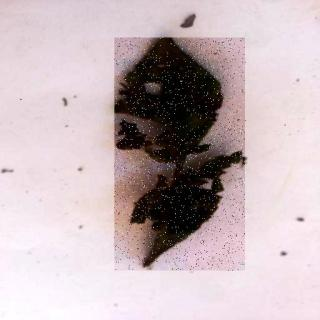Brown Blight: (116, 39, 247, 272)
